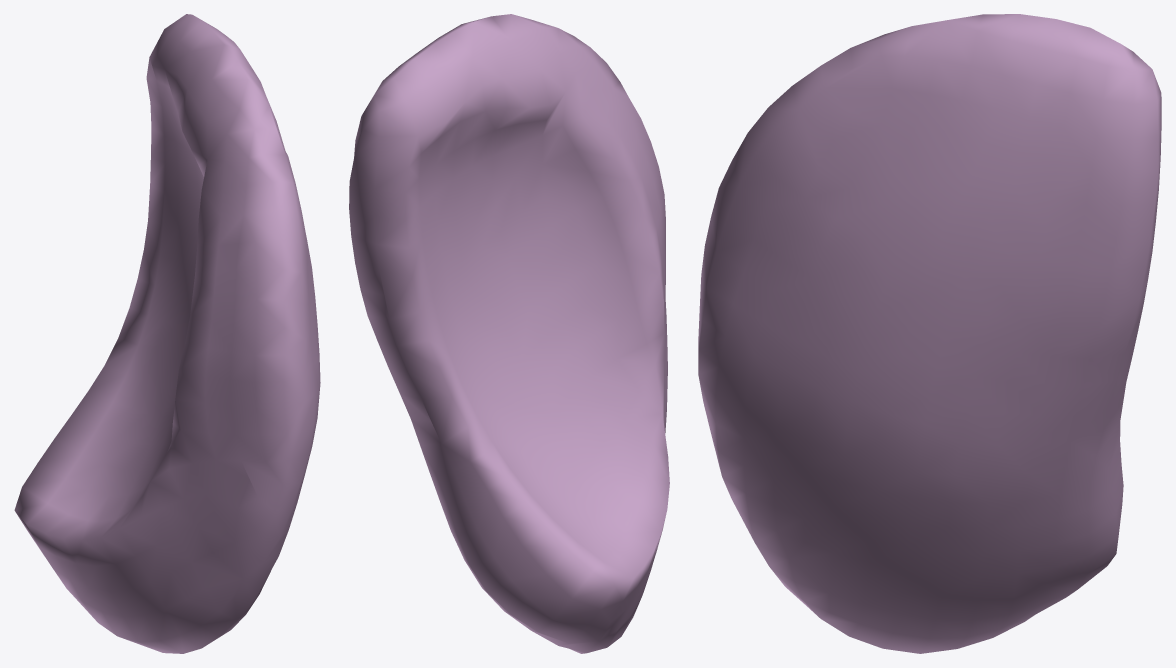
3 views of the same model, side by side, from view 1: azimuth 30°, elevation 25°; view 2: azimuth 150°, elevation 25°; view 3: azimuth 270°, elevation 25° (orthographic). The views are drawn at different scales.
Parts seen in each view (by area): view 1: 左侧壳; view 2: 左侧壳; view 3: 左侧壳.
Part boxes in pixels (box(x1,y1,x2,y2)): 左侧壳: box(14, 14, 320, 653); 左侧壳: box(349, 14, 669, 653); 左侧壳: box(698, 14, 1161, 653).
Size of the model in its own units: 0.0261 by 0.0614 by 0.0371.
